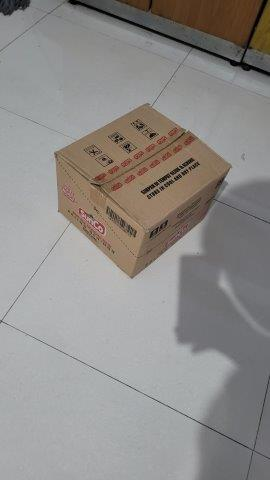kardus: (57, 104, 228, 280)
